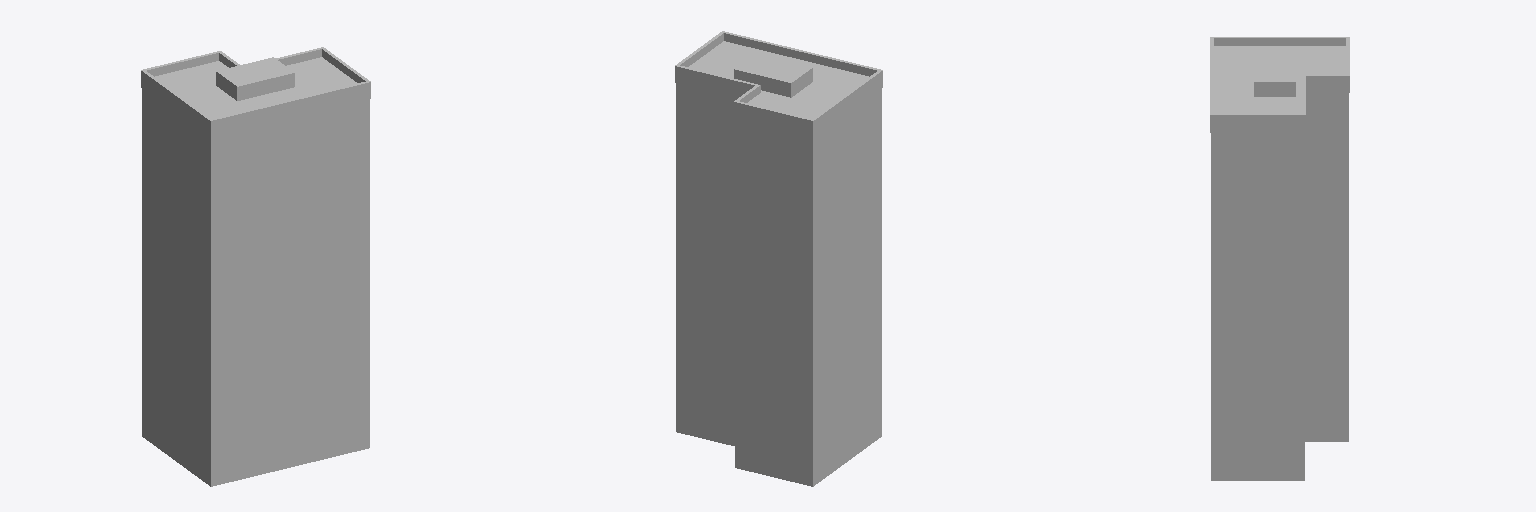
File: building_30.obj
3 views of the same model, side by side, from view 1: azimuth 30°, elevation 25°; view 2: azimuth 150°, elevation 25°; view 3: azimuth 270°, elevation 25° (orthographic).
Visible parts, largest first — view 1: BakedBuilding_327; view 2: BakedBuilding_327; view 3: BakedBuilding_327.
Boxes of the visible parts, box(x1,y1,x2,y2) form: BakedBuilding_327: box(141, 47, 370, 486); BakedBuilding_327: box(675, 31, 882, 486); BakedBuilding_327: box(1210, 37, 1349, 480).
Size of the model in its own units: 97.5 by 216 by 73.34.